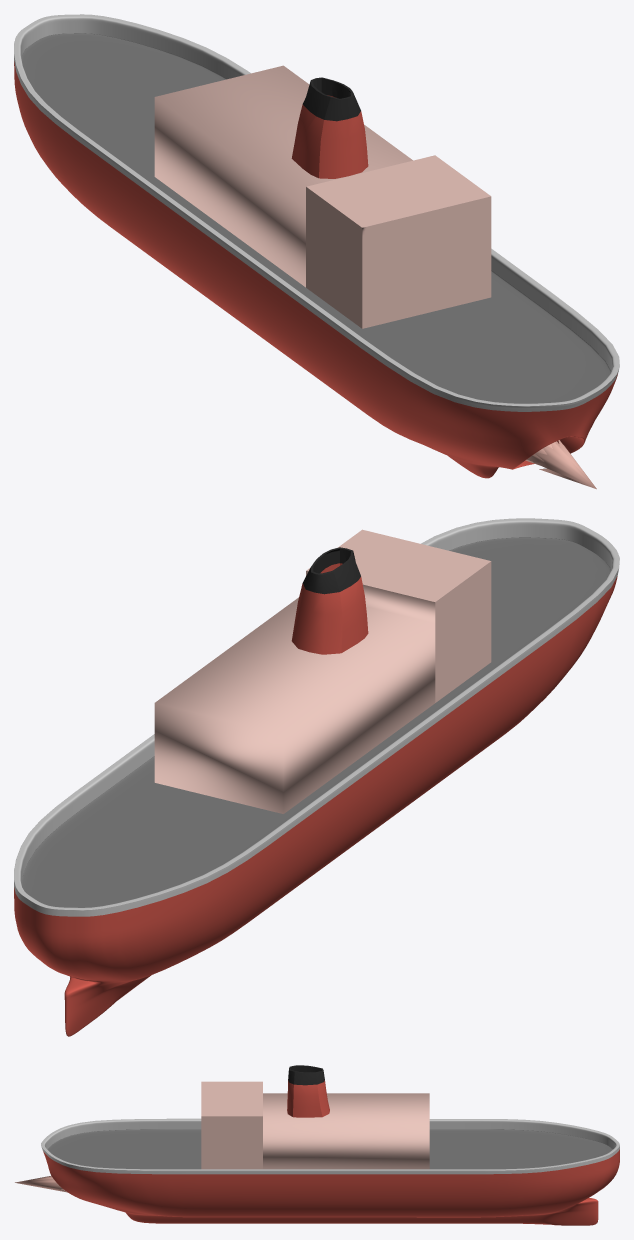
The model's file is Item_Ship_Red.fbx.
The picture shows the model from 3 angles, top to bottom: view 1: azimuth 30°, elevation 25°; view 2: azimuth 150°, elevation 25°; view 3: azimuth 270°, elevation 25°; orthographic projection. The views are drawn at different scales.
Visible parts, largest first — view 1: pCube2, pCube3, pCube4, pCone1; view 2: pCube2, pCube3, pCube4; view 3: pCube2, pCube3, pCube4, pCone1.
Part boxes in pixels (box(x1,y1,x2,y2)): pCube2: box(14, 14, 619, 478); pCube3: box(154, 65, 491, 328); pCube4: box(291, 77, 368, 178); pCone1: box(533, 440, 596, 489); pCube2: box(14, 518, 619, 1036); pCube3: box(154, 529, 491, 813); pCube4: box(291, 547, 368, 654); pCube2: box(41, 1118, 619, 1225); pCube3: box(201, 1081, 429, 1169); pCube4: box(287, 1065, 329, 1117); pCone1: box(15, 1176, 67, 1192).
Bounding box in the file's own units: 0.1719 × 0.2429 × 0.8485.
1 material, 1 textured.
